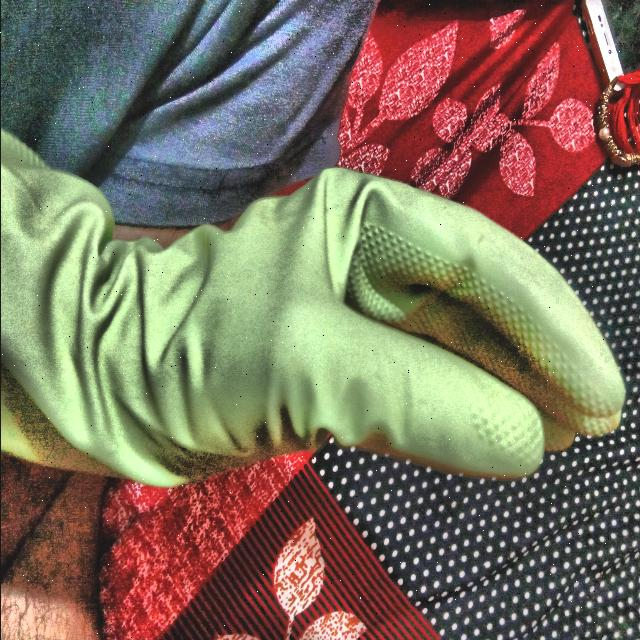gloved: (1, 126, 624, 498)
